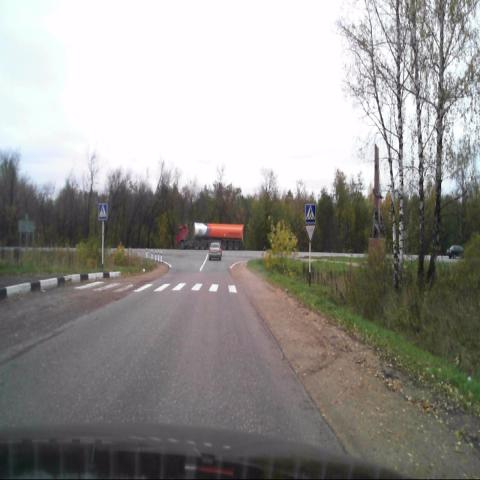2_4: (304, 223, 316, 243)
5_19_1: (305, 204, 315, 222), (98, 204, 107, 220)
